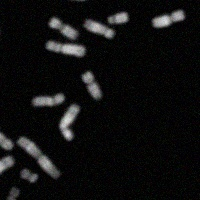chromosome: (18, 136, 61, 177), (60, 103, 80, 141), (45, 40, 84, 58), (48, 18, 78, 40), (83, 18, 114, 39), (151, 8, 184, 27), (81, 71, 102, 98), (0, 110, 13, 150), (32, 91, 64, 106), (0, 155, 15, 186), (109, 11, 127, 24), (21, 169, 37, 183), (6, 187, 19, 200)
